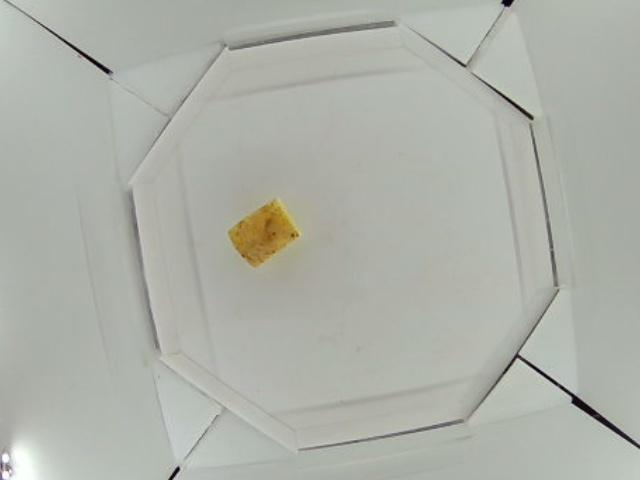Potato: (225, 197, 301, 270)
